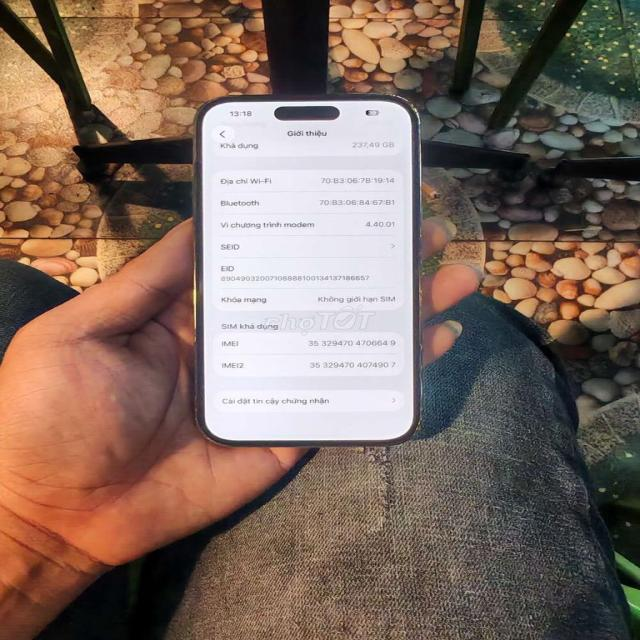physical_damage: (407, 322, 432, 431)
scratch: (389, 86, 435, 120)
